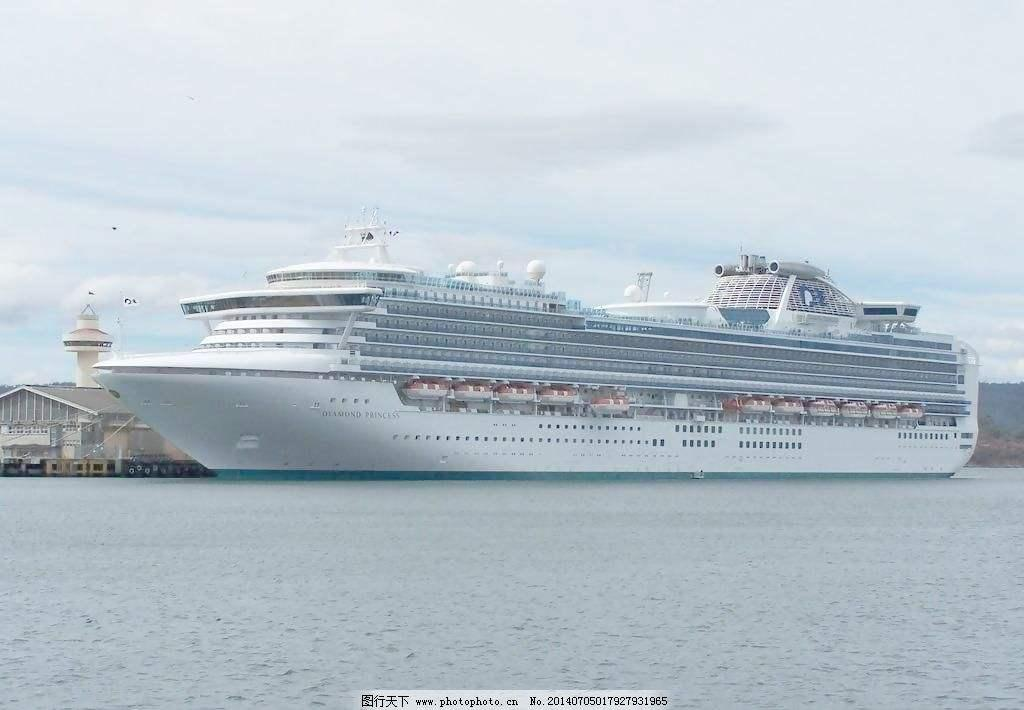youlun: (86, 239, 984, 488)
